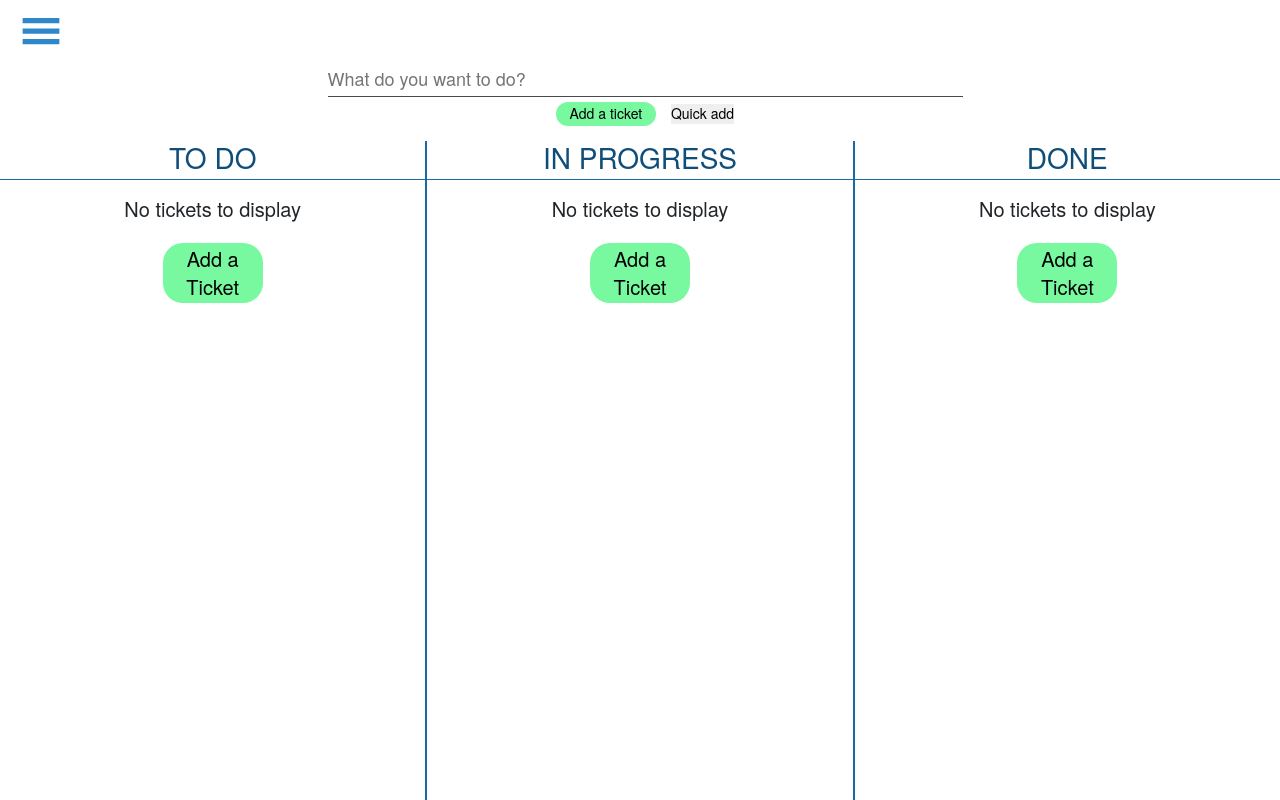
it: Checks adding ticket functions › modal section › modal is opened when user tries to add a ticket
Type "title of the ticket is random" into the field with test id "ticket-title-input" at x=646, y=80, box 328,62 -> 963,97
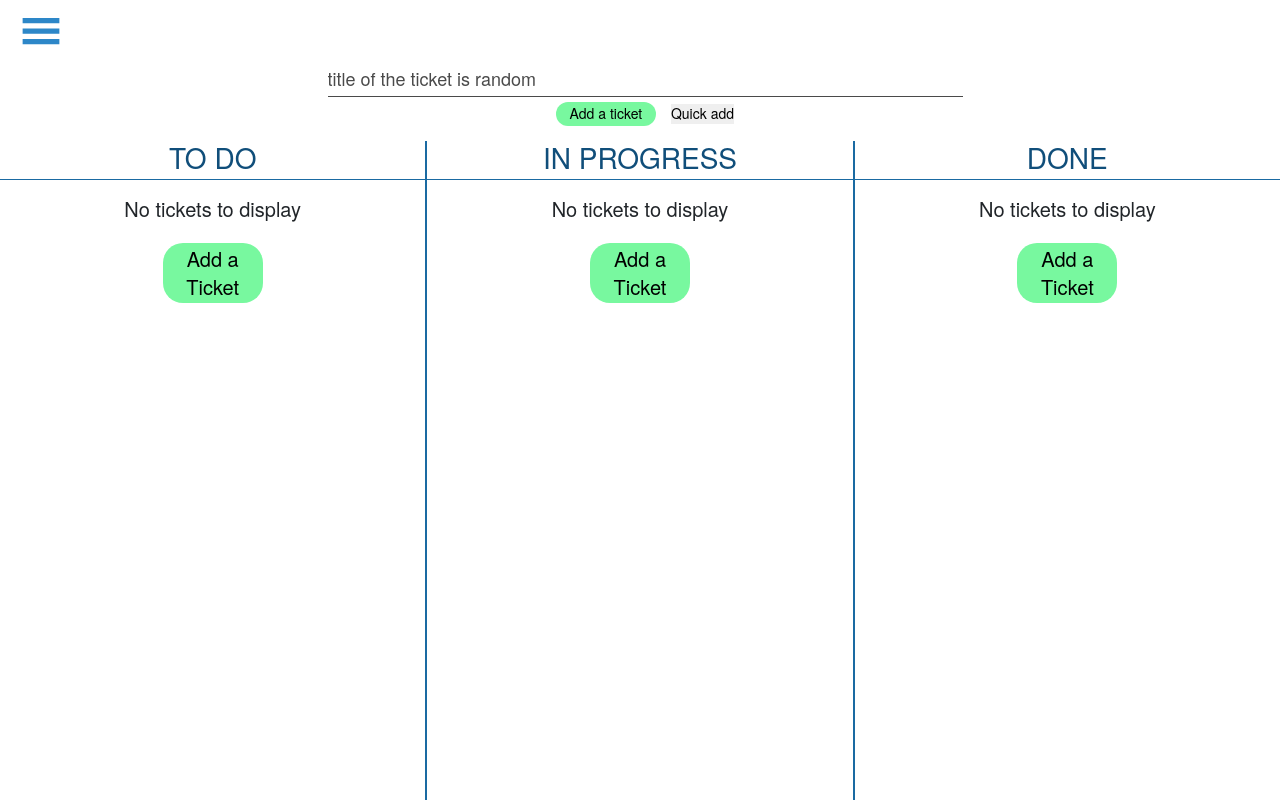
Click the button with test id "add-ticket-btn" at x=606, y=114, box 556,102 -> 656,126
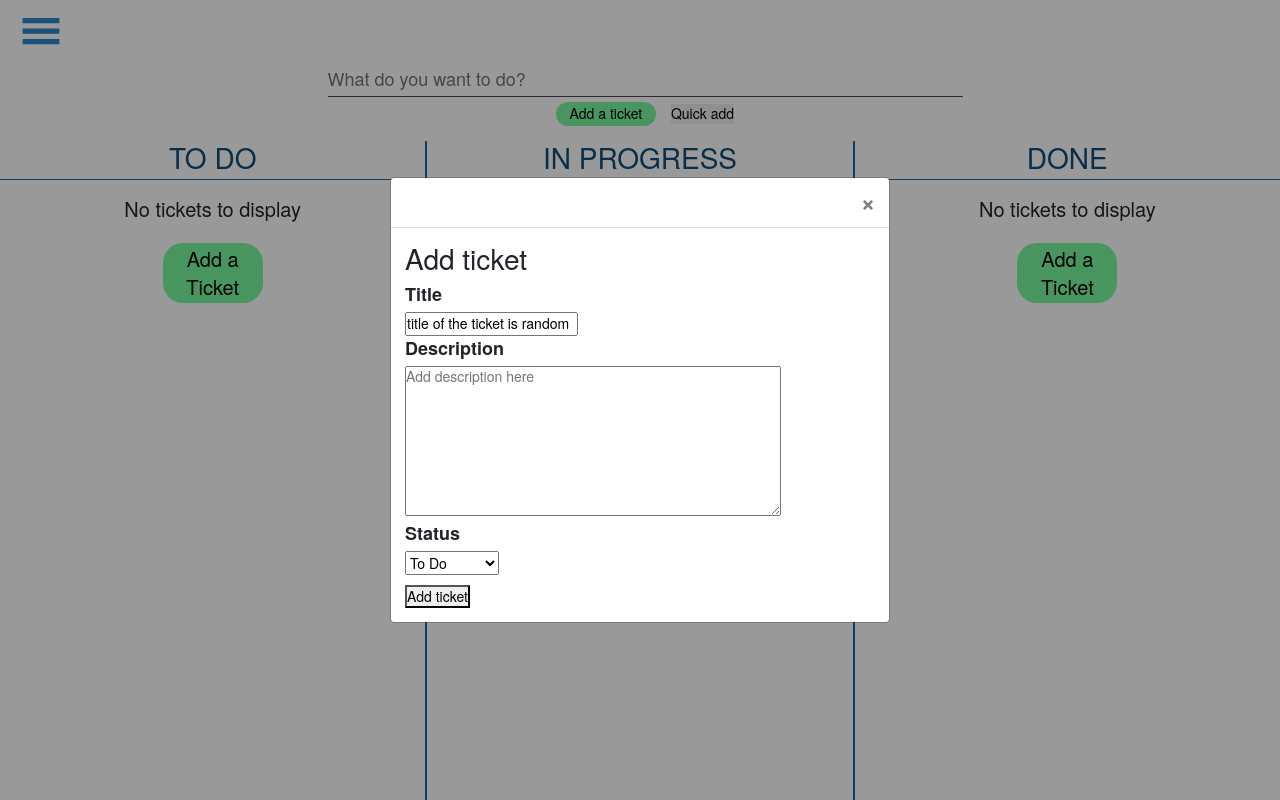
expect the element with test id "modal-content" is shown: met, box 390,177 -> 890,624
expect the heading with test id "modal-title" reads "Add ticket": met, box 405,238 -> 527,278
expect the field with test id "modal-title-input" holds "title of the ticket is random": met, box 405,312 -> 578,336
